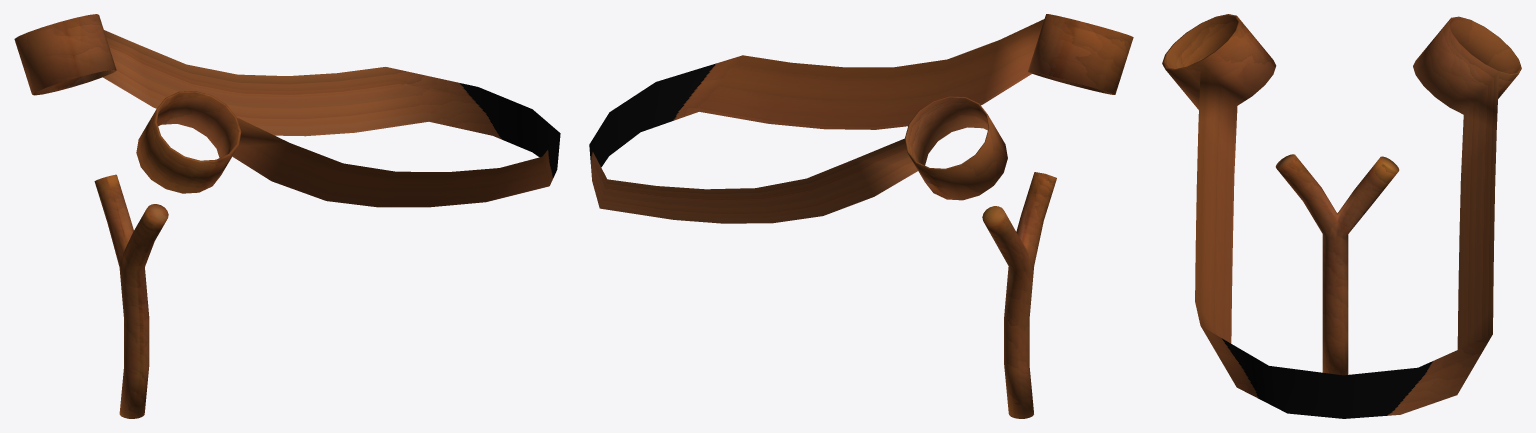
File: Estilingue.fbx
The picture shows the model from 3 angles, left to right: view 1: azimuth 30°, elevation 25°; view 2: azimuth 150°, elevation 25°; view 3: azimuth 270°, elevation 25°; orthographic projection.
Parts seen in each view (by area): view 1: ESTILINGUE.001, ESTILINGUE; view 2: ESTILINGUE.001, ESTILINGUE; view 3: ESTILINGUE.001, ESTILINGUE.
Part boxes in pixels (x1=…): ESTILINGUE.001: x1=14, y1=14, x2=560, y2=207; ESTILINGUE: x1=94, y1=174, x2=168, y2=418; ESTILINGUE.001: x1=589, y1=14, x2=1133, y2=223; ESTILINGUE: x1=982, y1=172, x2=1056, y2=418; ESTILINGUE.001: x1=1162, y1=14, x2=1521, y2=418; ESTILINGUE: x1=1275, y1=154, x2=1399, y2=375.
Bounding box in the file's own units: 133 × 102 × 92.71.
1 material, 1 textured.
